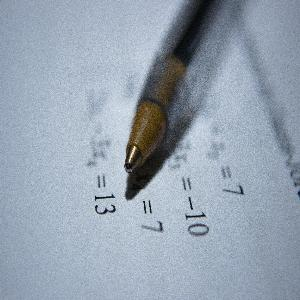pen: (120, 1, 226, 175)
